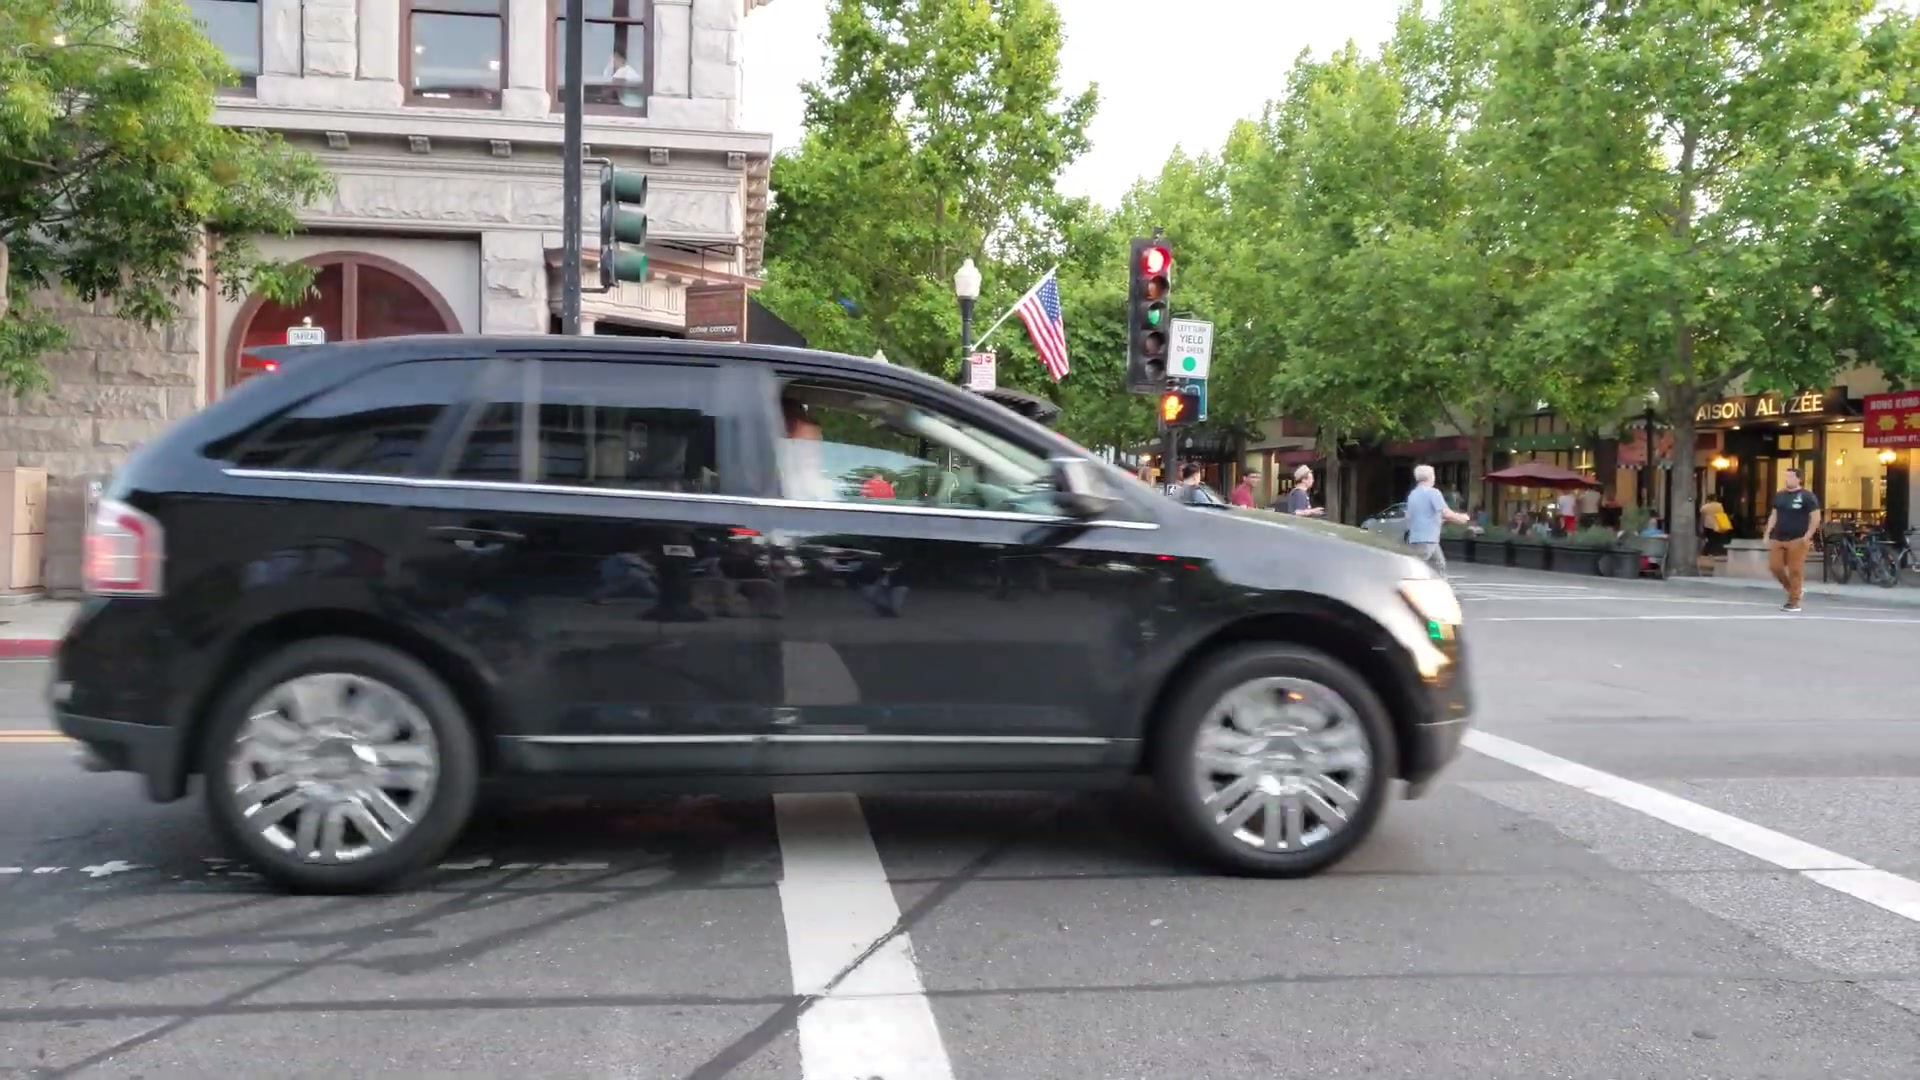vehicle: (49, 334, 1487, 880)
